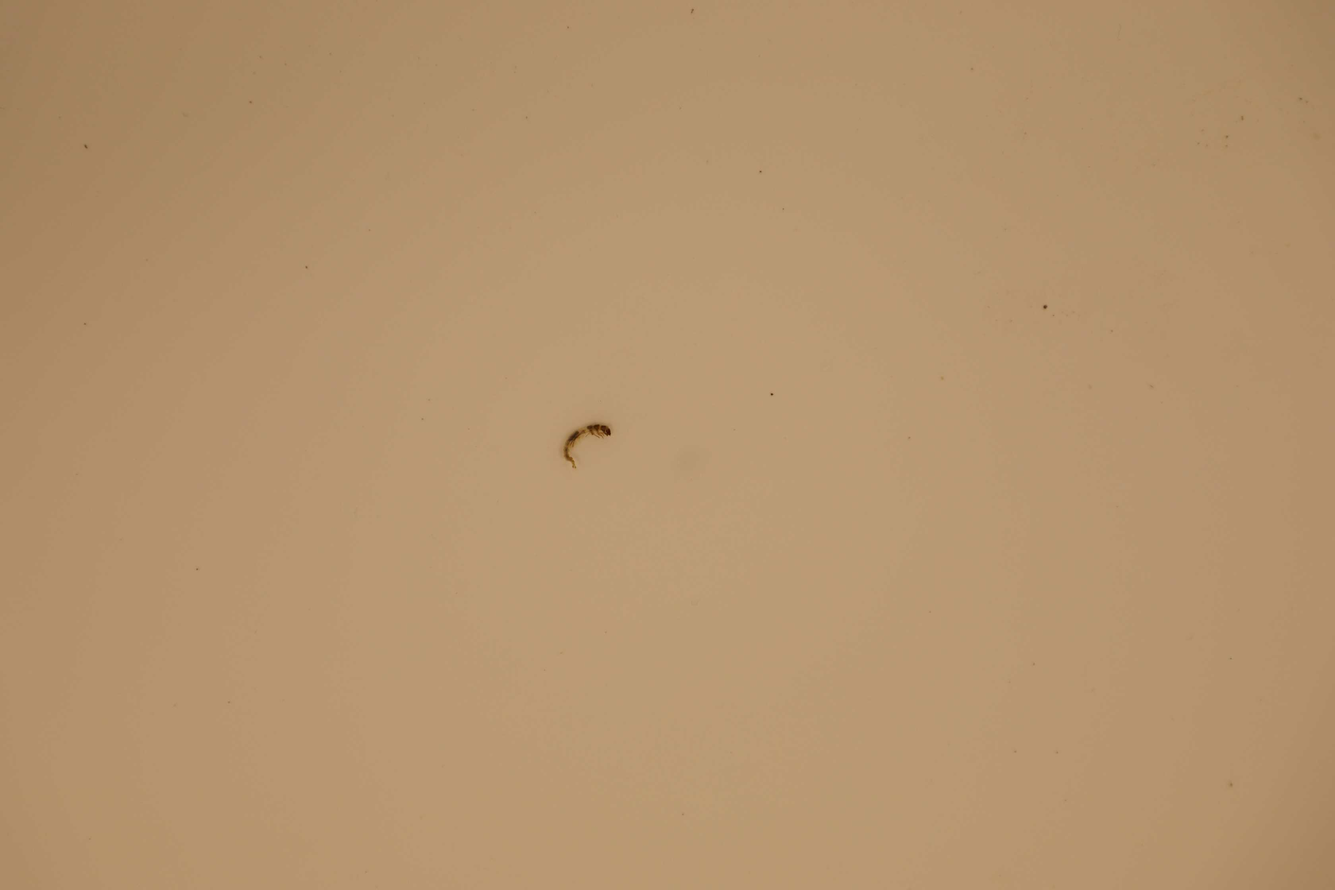Cadisfly: (558, 419, 618, 474)
